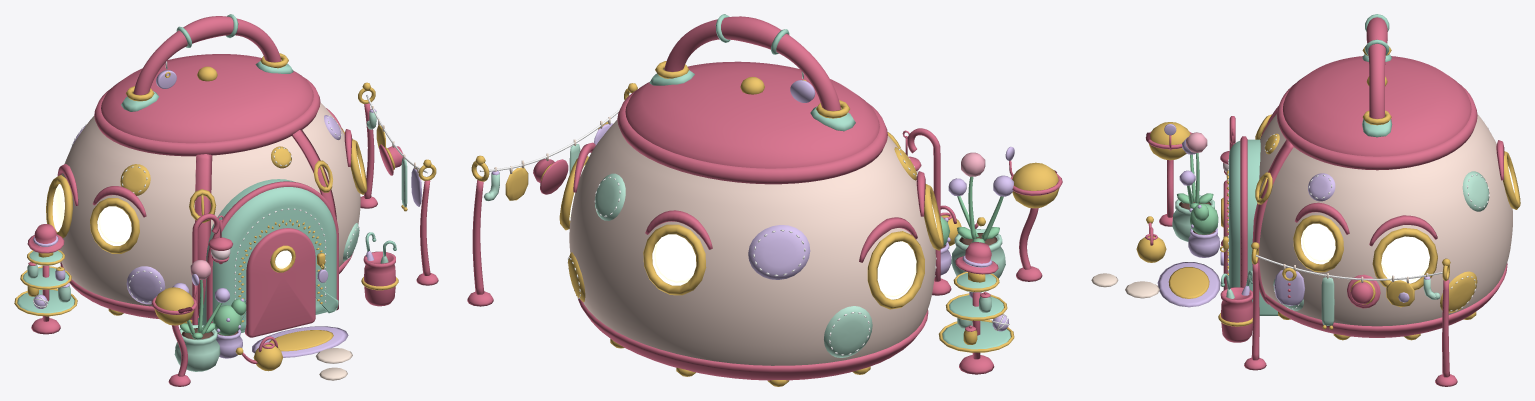
The model's file is house_08_0805.fbx.
3 views of the same model, side by side, from view 1: azimuth 30°, elevation 25°; view 2: azimuth 150°, elevation 25°; view 3: azimuth 270°, elevation 25° (orthographic). The views are drawn at different scales.
Parts seen in each view (by area): view 1: House_Body_Bag, House_Lid, Entrance_Pocket, Entrance_Door, House_RimPiping, Roof_Handle, Window_Grommets, Prop_RoundShelf, Wall_Straps, Entrance_Mat, Prop_Clothesline_Posts, Window_Glass (+25 smaller); view 2: House_Body_Bag, House_Lid, Window_Grommets, House_RimPiping, House_BaseTrim, Roof_Handle, Prop_RoundShelf, Window_Glass, Wall_Patches_Mint, Wall_Patches_Pink, Window_Eyelids, Prop_Laundry (+11 smaller); view 3: House_Body_Bag, House_Lid, Prop_Laundry, House_RimPiping, Entrance_Pocket, Window_Grommets, Window_Glass, House_BaseTrim, Entrance_Mat, Prop_Clothesline_Posts, Roof_Handle, Prop_UmbrellaStand (+19 smaller).
Boxes of the visible parts, x1,y1,x2,y2 form: House_Body_Bag: (59,102,360,306); House_Lid: (101,54,313,143); Entrance_Pocket: (191,179,338,332); Entrance_Door: (245,228,315,337); House_RimPiping: (94,77,320,156); Roof_Handle: (133,16,281,95); Window_Grommets: (46,128,367,253); Prop_RoundShelf: (14,250,77,334); Wall_Straps: (195,130,336,317); Entrance_Mat: (252,326,348,357); Prop_Clothesline_Posts: (360,103,438,285); Window_Glass: (52,155,361,245); House_Body_Bag: (569,120,935,365); House_Lid: (625,61,879,168); Window_Grommets: (559,156,943,309); House_RimPiping: (617,90,887,184); House_BaseTrim: (577,297,928,380); Roof_Handle: (664,16,840,110); Prop_RoundShelf: (938,272,1014,374); Window_Glass: (569,165,936,299); Wall_Patches_Mint: (595,173,872,357); Wall_Patches_Pink: (748,225,935,279); Window_Eyelids: (573,142,925,262); Prop_Laundry: (484,122,612,200); House_Body_Bag: (1259,114,1512,326); House_Lid: (1283,56,1471,156); Prop_Laundry: (1274,267,1440,329); House_RimPiping: (1277,84,1477,170); Entrance_Pocket: (1229,139,1278,315); Window_Grommets: (1293,151,1520,290); Window_Glass: (1301,166,1514,283); House_BaseTrim: (1265,263,1507,337); Entrance_Mat: (1157,262,1220,307); Prop_Clothesline_Posts: (1244,263,1457,386); Roof_Handle: (1366,17,1387,118); Prop_UmbrellaStand: (1218,287,1252,342).
Bounding box in the file's own units: 6.32 × 3.85 × 5.71.
